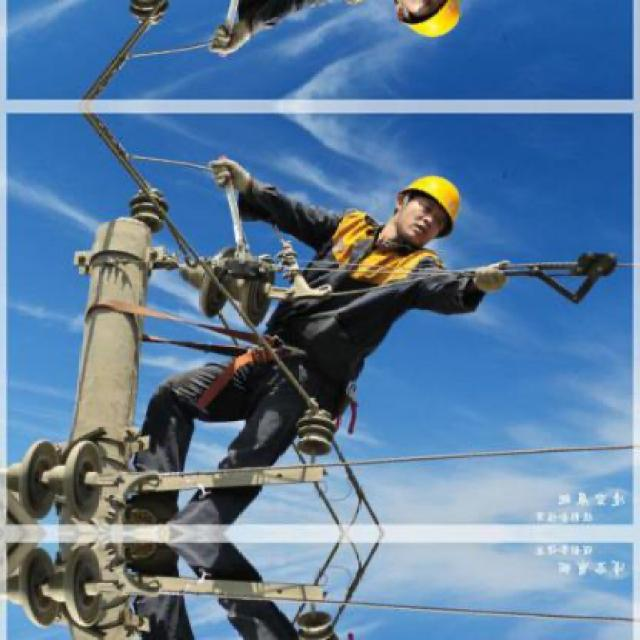helmet: (388, 166, 472, 250), (388, 0, 474, 48)
